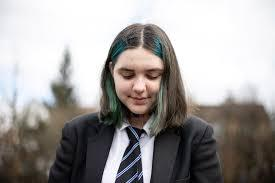Persons: (98, 19, 196, 133)
